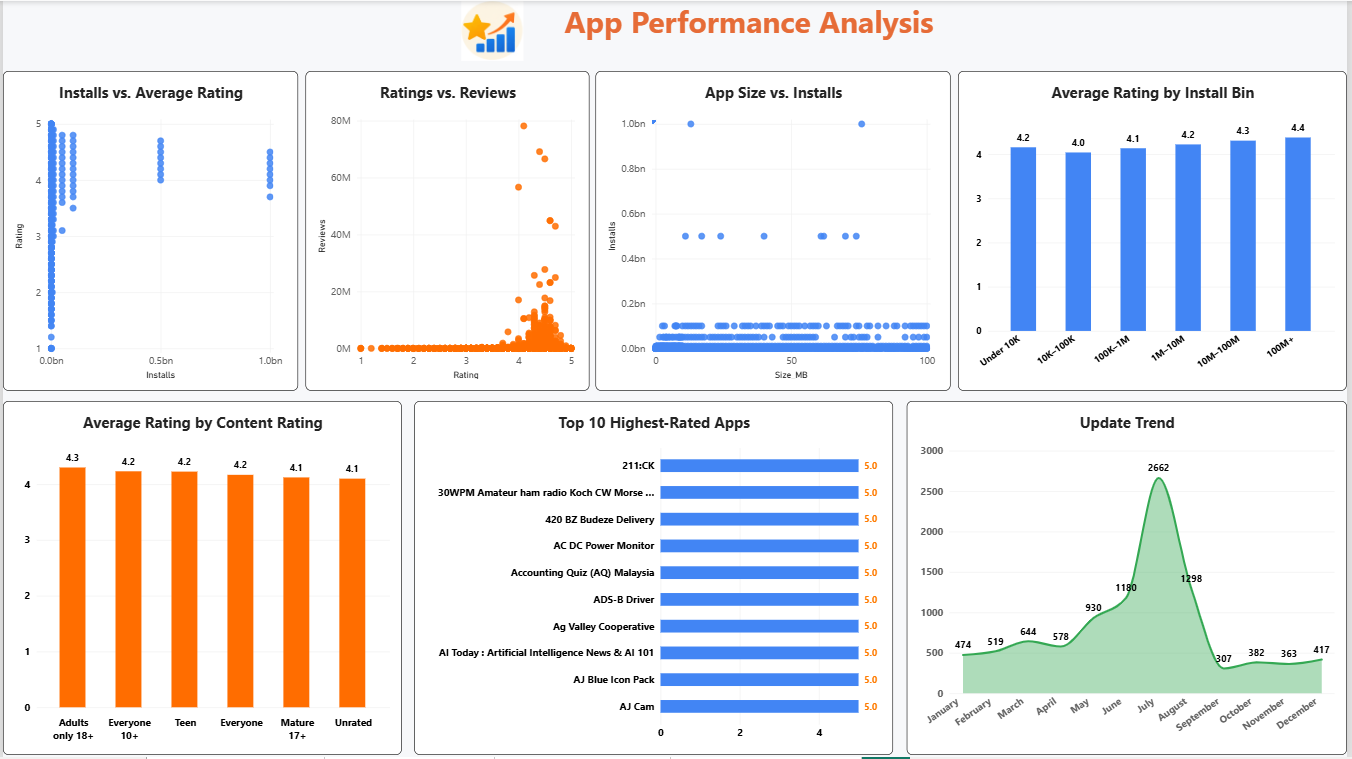

What the dashboard file says about the page in this screenshot:
{"tool":"powerbi","page":{"name":"App Performance","canvas":[1920,1080],"ordinal":1},"visuals":[{"type":"textbox","box":[0,0,1919.7,85.7],"z":0},{"type":"image","box":[587.5,0,223.2,85.7],"z":1000},{"type":"scatterChart","title":"Installs vs. Average Rating","fields":{"X":["Apps.Installs"],"Y":["Apps.Rating"]},"box":[0,100,421.4,457.1],"z":2000},{"type":"scatterChart","title":"Ratings vs. Reviews","fields":{"X":["Apps.Rating"],"Y":["Apps.Reviews"]},"box":[432.1,100,405.4,457.1],"z":3000},{"type":"clusteredBarChart","title":"Top 10 Highest-Rated Apps","fields":{"Category":["Apps.App"],"Y":["Apps.Top 10 Highest Rated"]},"box":[587.5,571.4,683.9,505.4],"z":4000},{"type":"clusteredColumnChart","title":"Average Rating by Content Rating","fields":{"Y":["Avg(Apps.Rating)"],"Category":["Apps.Content Rating"]},"box":[0,571.4,569.6,505.4],"z":5000},{"type":"scatterChart","title":"App Size vs. Installs","fields":{"X":["Apps.Size_MB"],"Y":["Apps.Installs"]},"box":[846.4,100,507.1,457.1],"z":6000},{"type":"lineChart","title":"Update Trend","fields":{"Category":["Apps.Last Updated.Variation.Date Hierarchy.Month"],"Y":["Apps.Total Apps"]},"box":[1291.1,571.4,628.6,505.4],"z":7000},{"type":"clusteredColumnChart","title":"Average Rating by Install Bin","fields":{"Category":["Apps.Install Bin"],"Y":["Avg(Apps.Rating)"]},"box":[1364.3,100,555.4,457.1],"z":8000}]}

Visuals, with their boxes in screenshot pixels (x1, y1, x2, y2), scaled from the page's 1920x1080 canvas onto the 1352x759 screenshot:
textbox: [0, 0, 1351, 60]
image: [414, 0, 571, 60]
"Installs vs. Average Rating" scatterChart: [0, 70, 297, 392]
"Ratings vs. Reviews" scatterChart: [304, 70, 590, 392]
"Top 10 Highest-Rated Apps" clusteredBarChart: [414, 402, 895, 757]
"Average Rating by Content Rating" clusteredColumnChart: [0, 402, 401, 757]
"App Size vs. Installs" scatterChart: [596, 70, 953, 392]
"Update Trend" lineChart: [909, 402, 1351, 757]
"Average Rating by Install Bin" clusteredColumnChart: [961, 70, 1351, 392]
